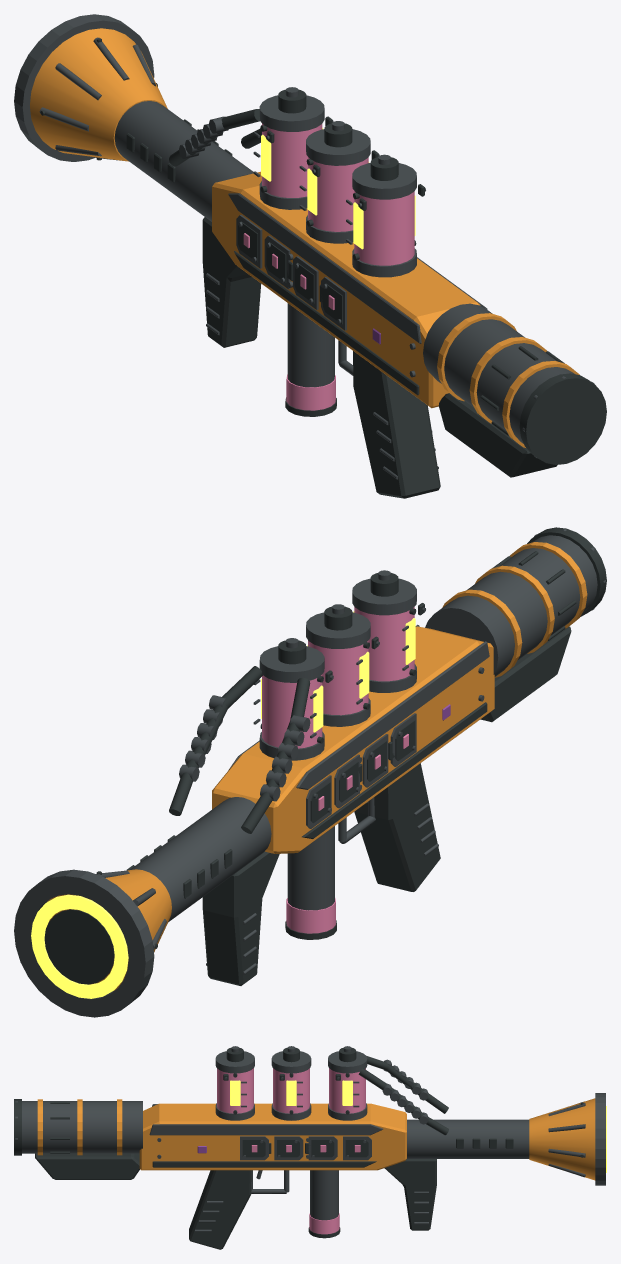
File: sticky_3.glb
3 views of the same model, one above another, from view 1: azimuth 30°, elevation 25°; view 2: azimuth 150°, elevation 25°; view 3: azimuth 270°, elevation 25° (orthographic). The views are drawn at different scales.
Parts seen in each view (by area): view 1: Weapon_sticky_v1; view 2: Weapon_sticky_v1; view 3: Weapon_sticky_v1.
Part boxes in pixels (left/top/right/bottom): Weapon_sticky_v1: left=14, top=14, right=606, bottom=498; Weapon_sticky_v1: left=14, top=527, right=606, bottom=1017; Weapon_sticky_v1: left=14, top=1046, right=606, bottom=1249.
Size of the model in its own units: 0.14 by 0.3291 by 0.8975.
